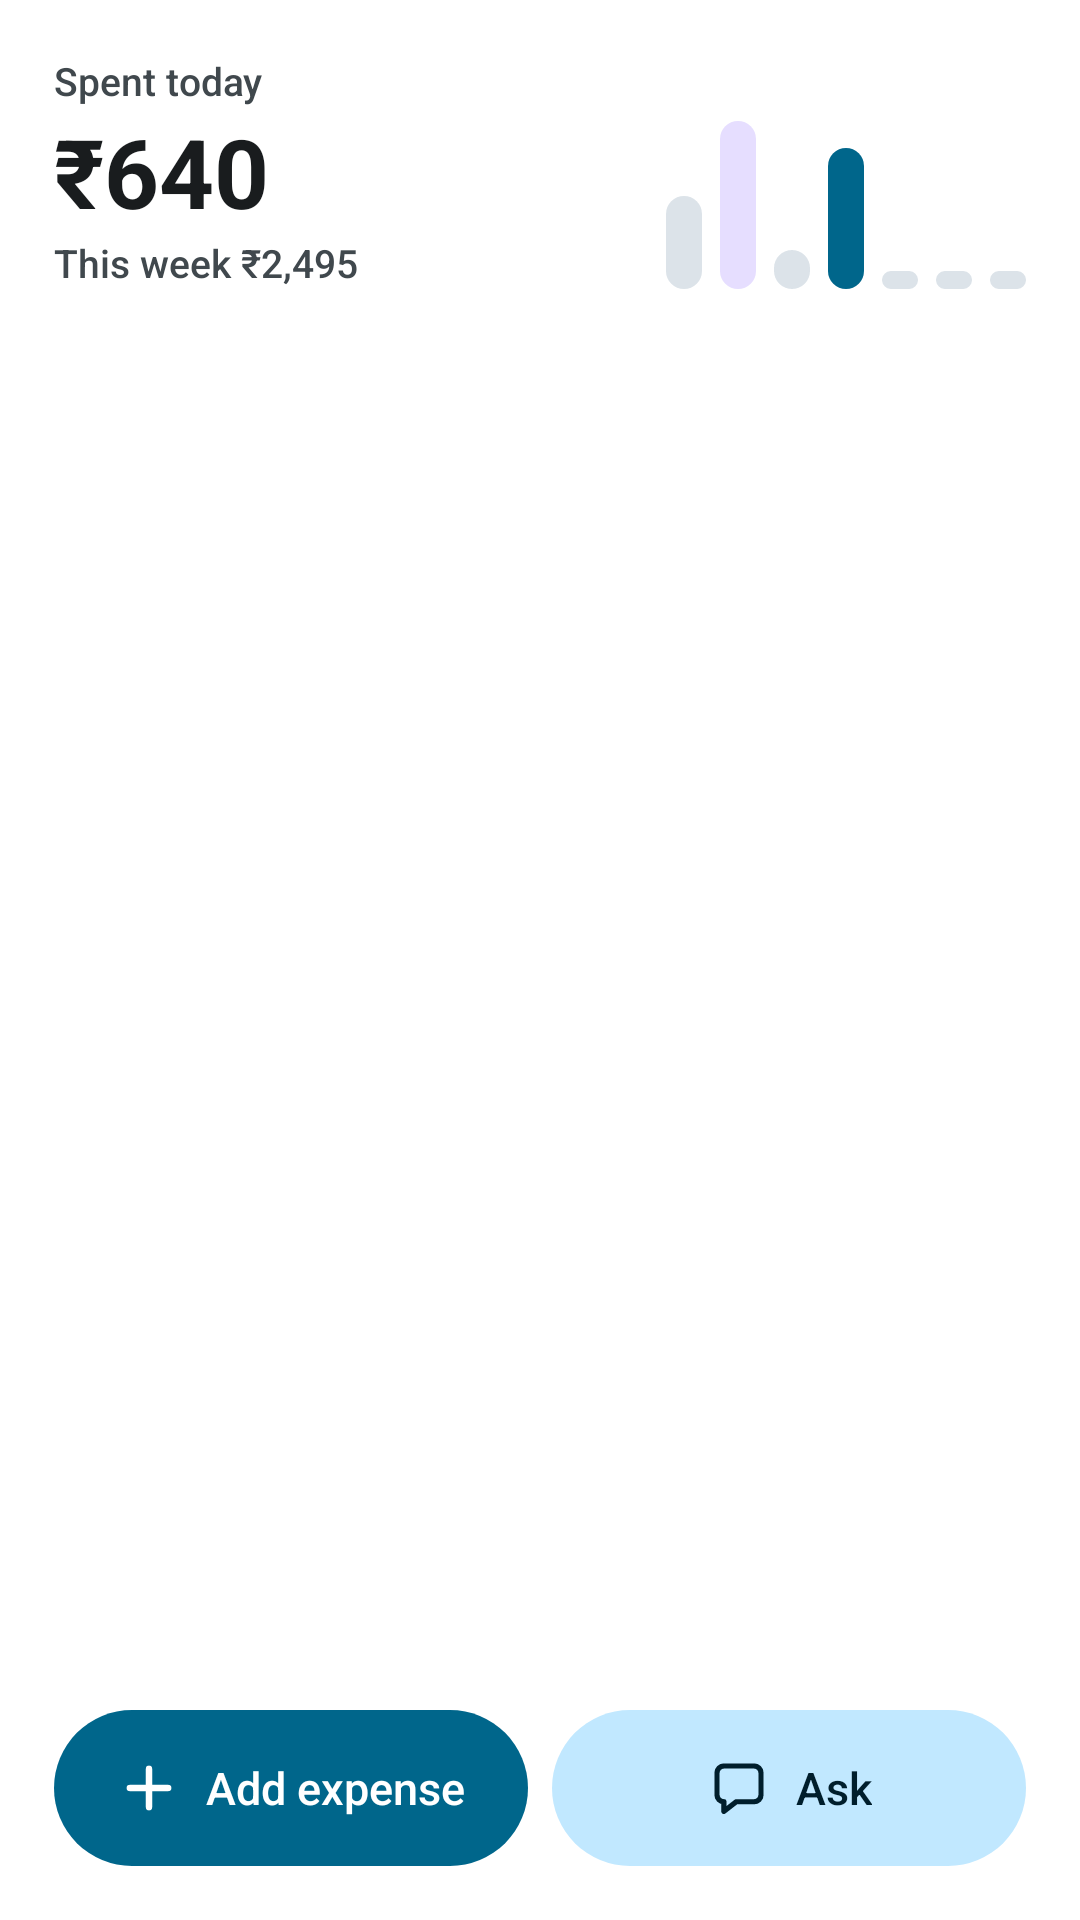

Named icons in this screenshot (1080w x 1920h) and their bounding boxes, rect(x1, y1, x2, y2):
chat: rect(714, 1763, 764, 1814)
plus: rect(126, 1765, 172, 1811)
